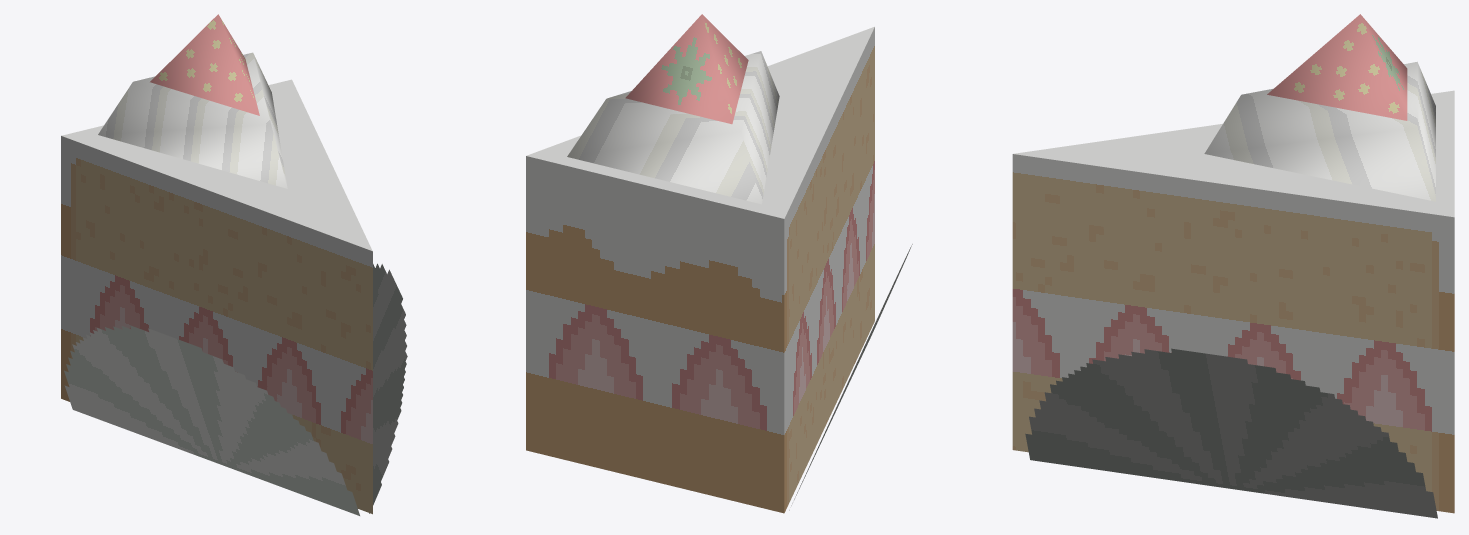
Rendered from 03c6_Shortcake.glb.
3 views of the same model, side by side, from view 1: azimuth 30°, elevation 25°; view 2: azimuth 150°, elevation 25°; view 3: azimuth 270°, elevation 25° (orthographic). The views are drawn at different scales.
Parts seen in each view (by area): view 1: part_0; view 2: part_0; view 3: part_0.
Part boxes in pixels (x1,y1,x2,y2): part_0: [61, 14, 407, 515]; part_0: [526, 14, 912, 513]; part_0: [1012, 14, 1454, 518].
Size of the model in its own units: 0.2089 by 0.2247 by 0.2159.
Materials: 1 (1 with a texture image).
